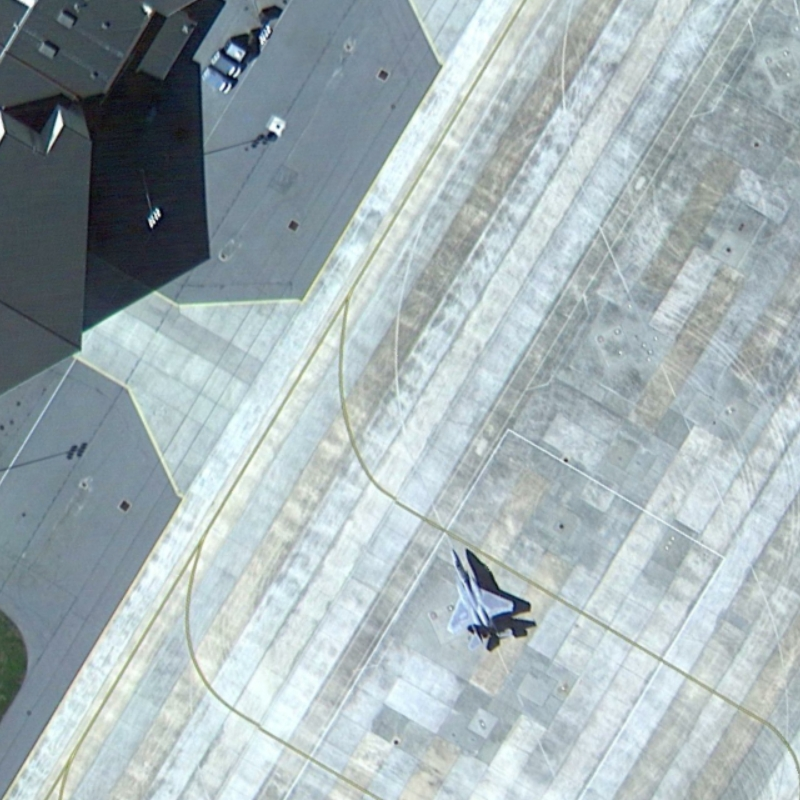A13: (440, 541, 522, 658)
